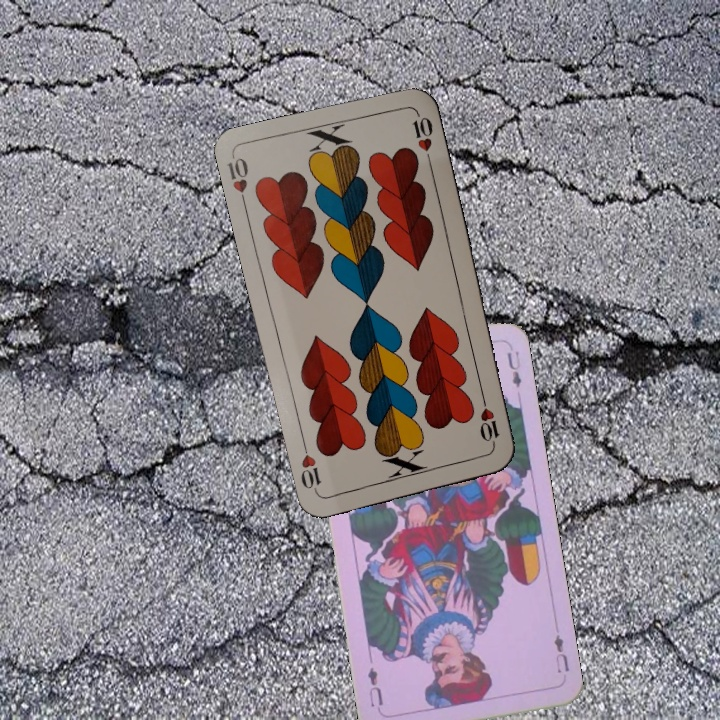EU: (550, 631, 572, 676)
H10: (224, 153, 251, 211), (476, 392, 502, 451)
